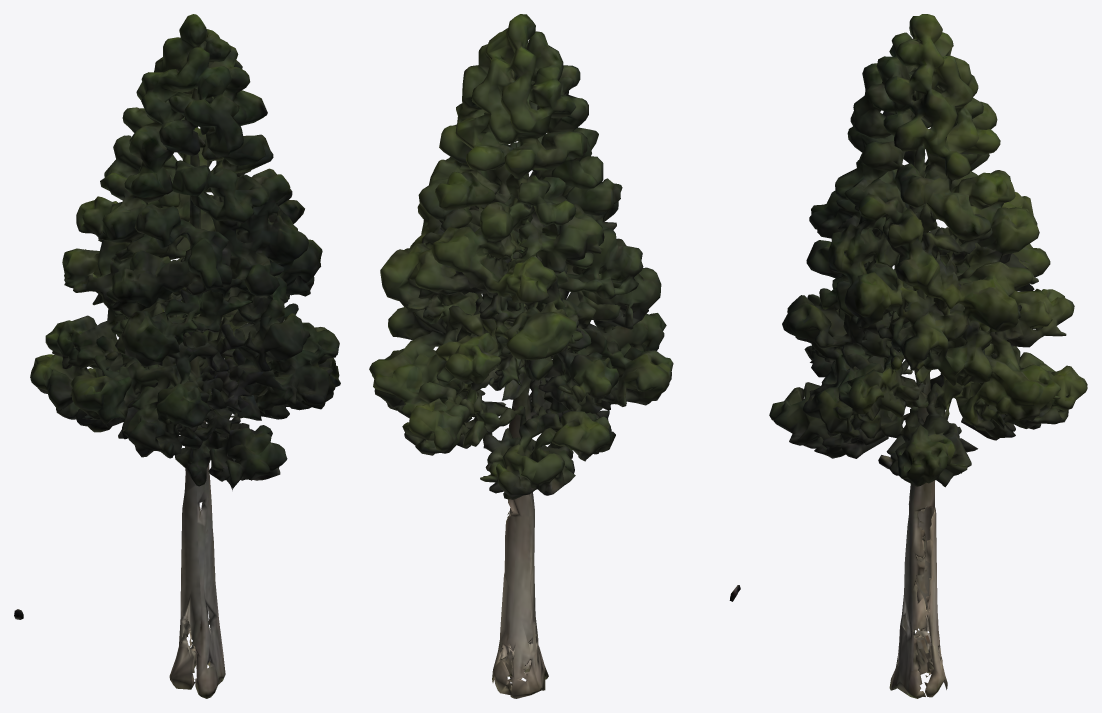
Rendered from cypress__cypress-tree-chad.glb.
3 views of the same model, side by side, from view 1: azimuth 30°, elevation 25°; view 2: azimuth 150°, elevation 25°; view 3: azimuth 270°, elevation 25° (orthographic).
Size of the model in its own units: 1.08 by 2.03 by 0.8649.
Materials: 1 (1 with a texture image).
